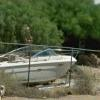Boat: (0, 39, 77, 84)
